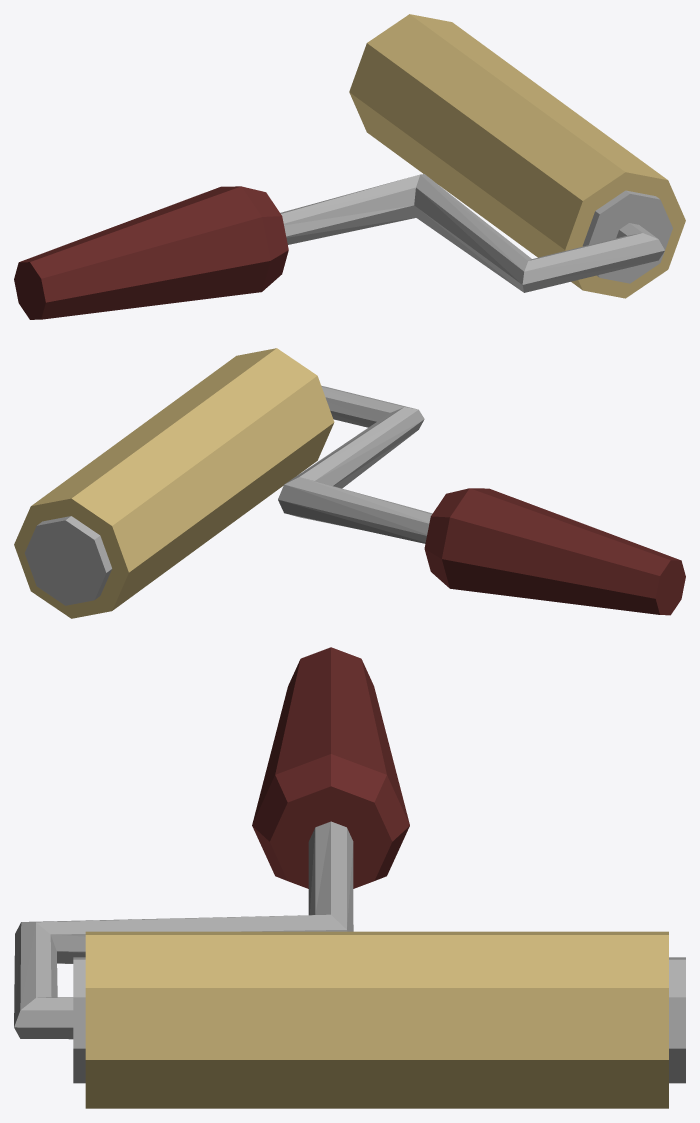
The model's file is SM_painting_roll.gltf.
The picture shows the model from 3 angles, top to bottom: view 1: azimuth 30°, elevation 25°; view 2: azimuth 150°, elevation 25°; view 3: azimuth 270°, elevation 25°; orthographic projection. The views are drawn at different scales.
Visible parts, largest first — view 1: SM_painting_roll; view 2: SM_painting_roll; view 3: SM_painting_roll.
Boxes of the visible parts, left/top/right/bottom form: SM_painting_roll: left=14, top=14, right=685, bottom=319; SM_painting_roll: left=14, top=348, right=685, bottom=618; SM_painting_roll: left=14, top=647, right=685, bottom=1108.
Size of the model in its own units: 0.572 by 0.1223 by 0.4362.
Materials: 1 (1 with a texture image).
